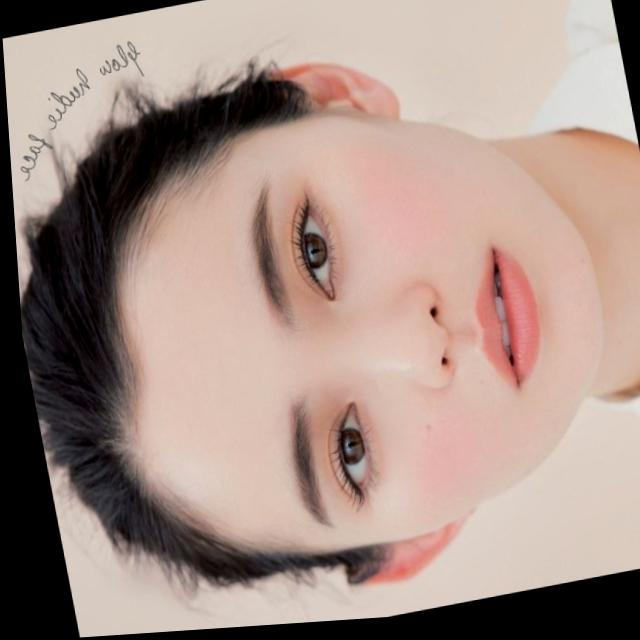face: (85, 78, 628, 576)
